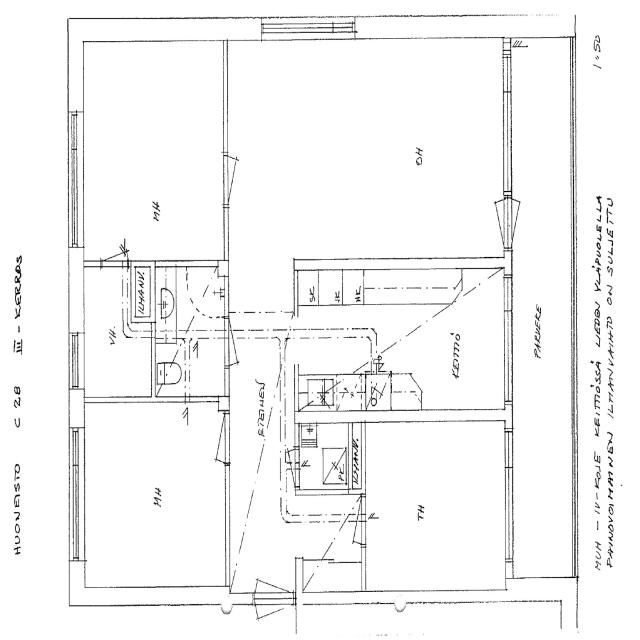door: (254, 538, 292, 604), (469, 198, 514, 247), (504, 198, 548, 247), (188, 413, 230, 463), (223, 154, 264, 203), (223, 318, 263, 365), (328, 498, 365, 545), (100, 219, 128, 266), (269, 449, 299, 486)
